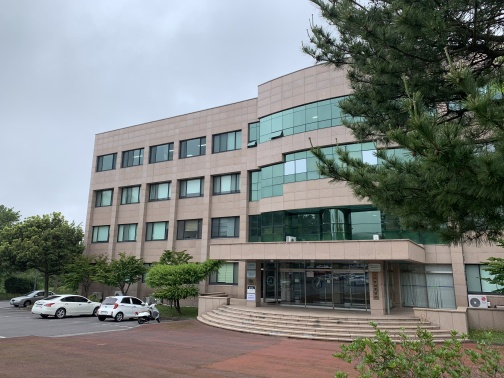Joint Experimental Labs: (85, 74, 460, 336)
